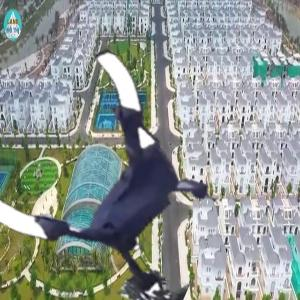drone: (6, 62, 231, 287)
